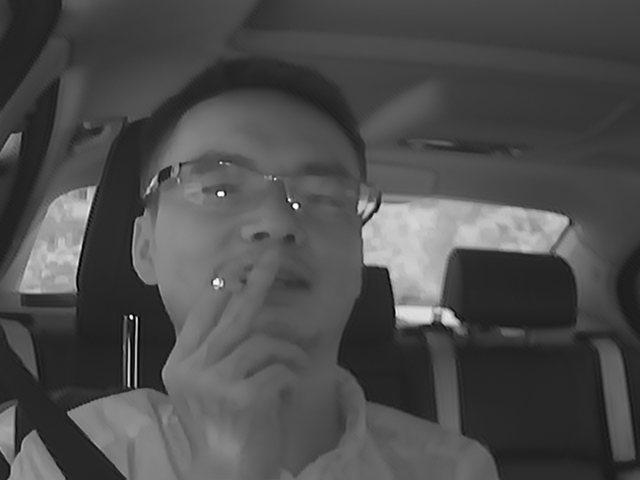hand: (162, 263, 313, 424)
